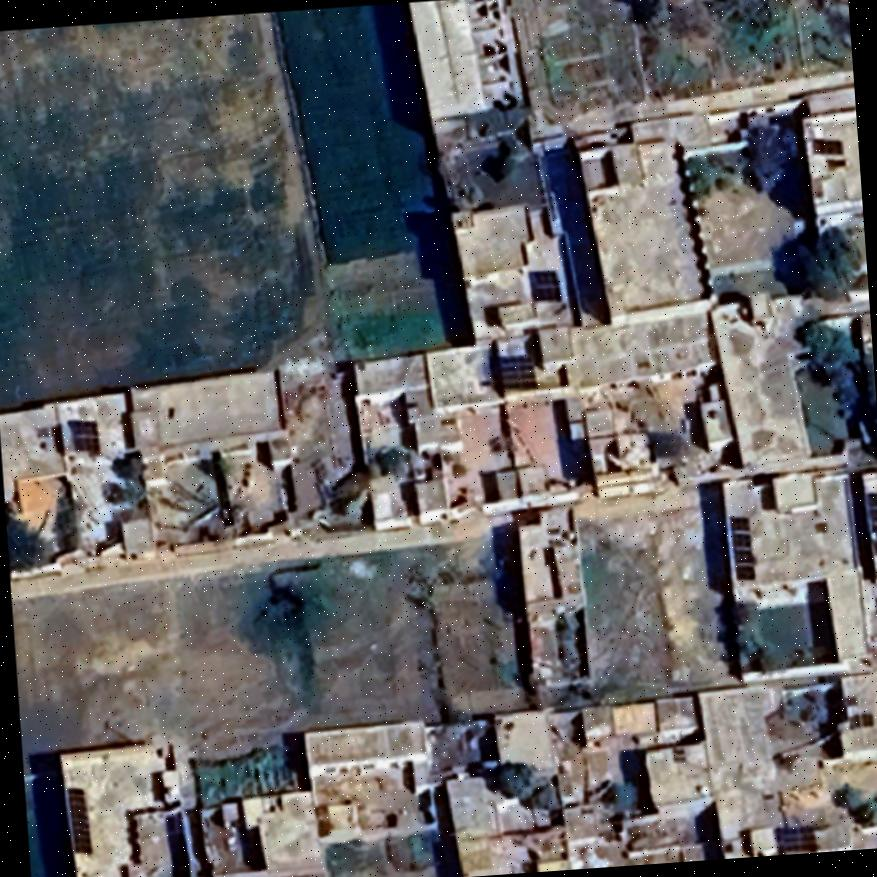Solarpanel: (723, 509, 758, 585), (486, 347, 540, 396), (62, 783, 96, 856), (521, 264, 566, 308), (62, 413, 102, 459), (770, 820, 821, 854), (859, 485, 877, 558), (808, 136, 843, 157)
